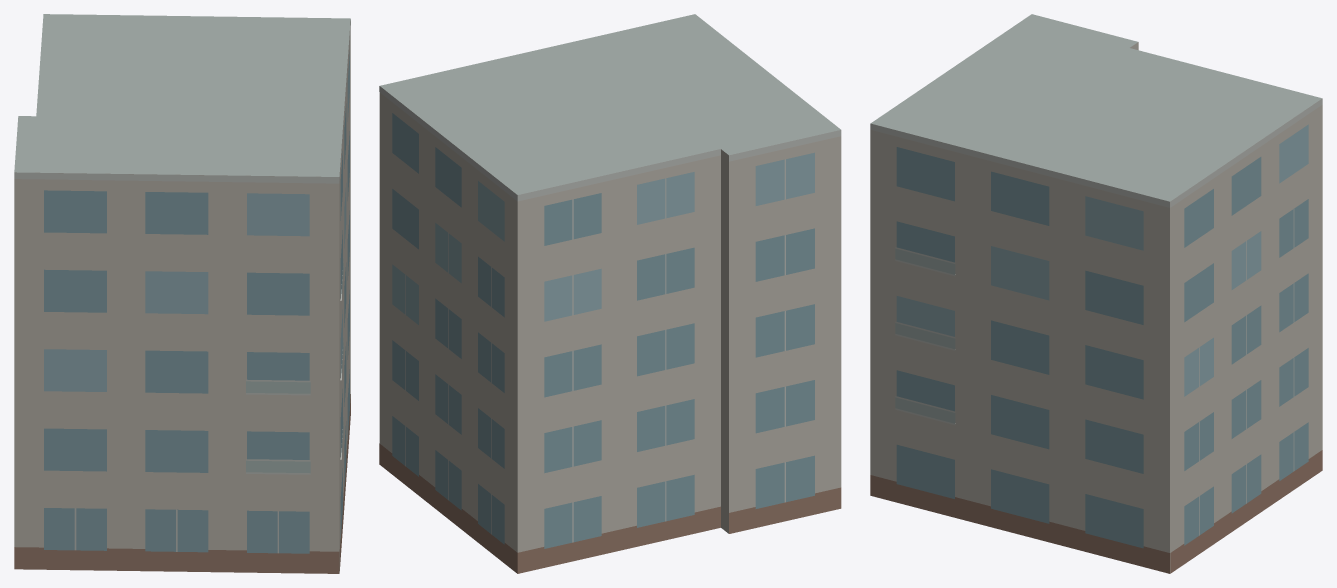
File: survey-upis-32783692.glb
3 views of the same model, side by side, from view 1: azimuth 30°, elevation 25°; view 2: azimuth 150°, elevation 25°; view 3: azimuth 270°, elevation 25° (orthographic). The views are drawn at different scales.
Visible parts, largest first — view 1: survey-upis-32783692.tmp; view 2: survey-upis-32783692.tmp; view 3: survey-upis-32783692.tmp.
Part boxes in pixels (x1,y1,x2,y2): survey-upis-32783692.tmp: (14,14,350,573); survey-upis-32783692.tmp: (379,14,841,573); survey-upis-32783692.tmp: (870,14,1322,573).
Bounding box in the file's own units: 15.8 × 14.6 × 16.08.
